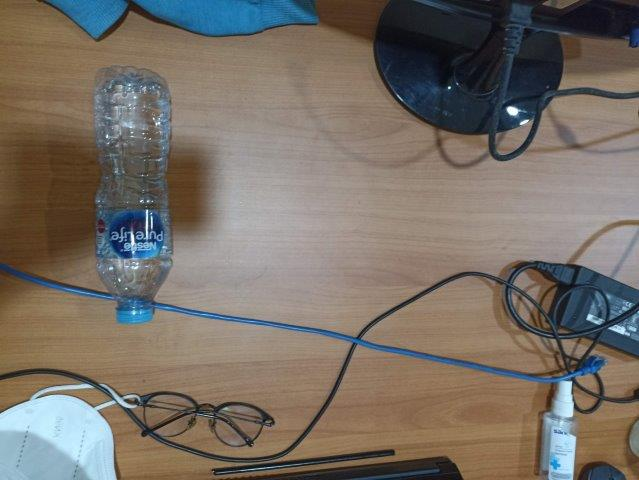botolplastik: (94, 66, 174, 323)
